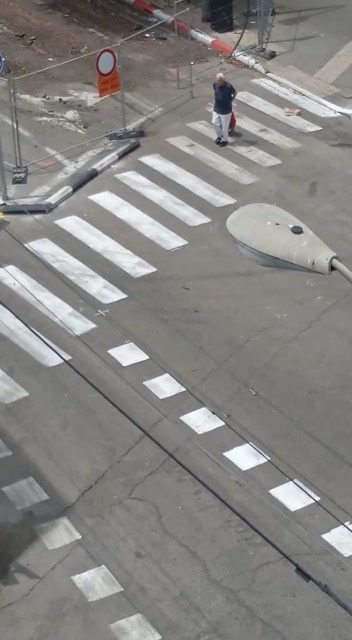crosswalk: (1, 45, 319, 354)
person: (197, 60, 248, 158)
